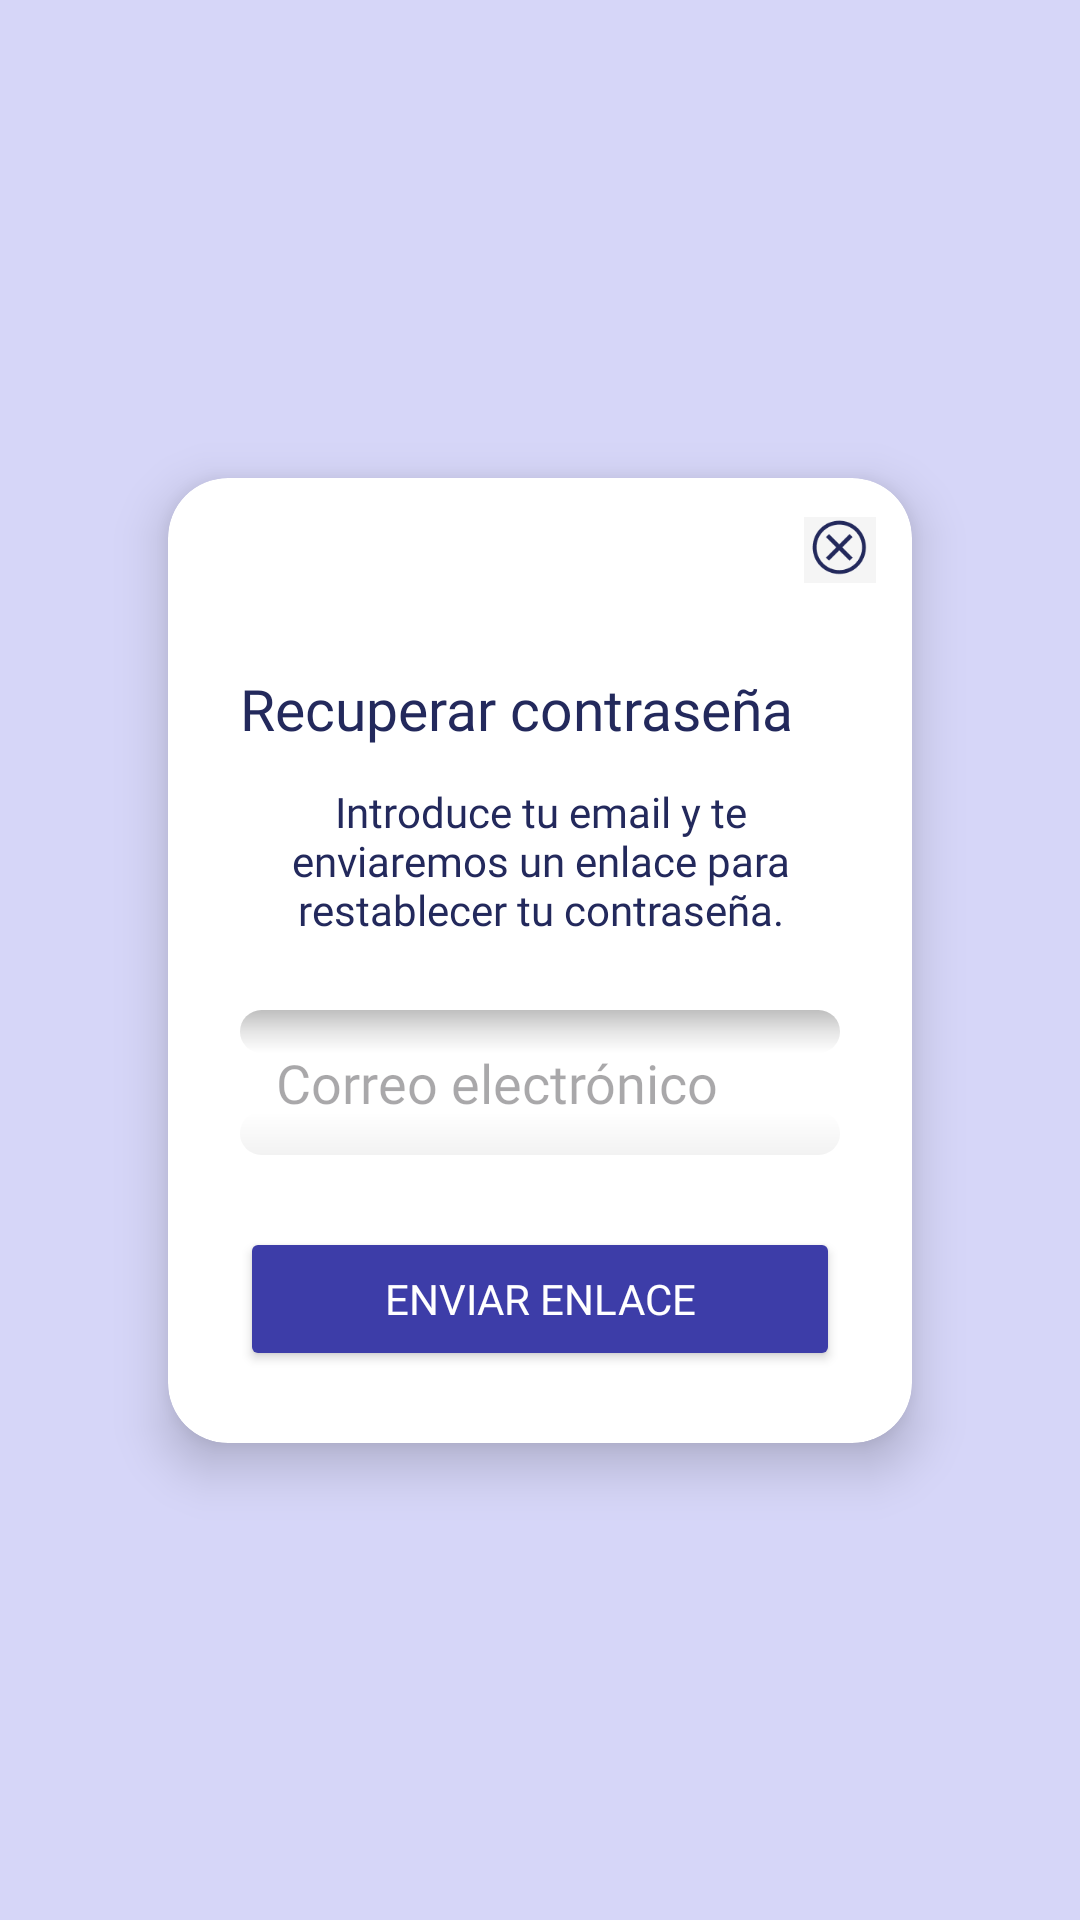

Icons on this 1080x1920 Android screen, each with the point to tap as (x,y):
Cerrar: (840,550)
